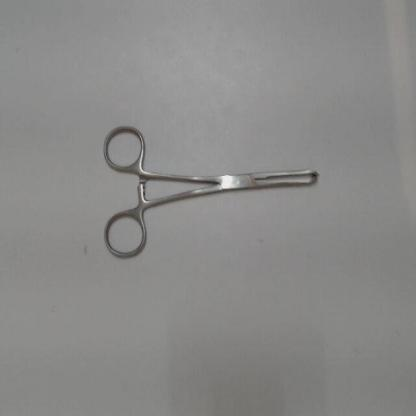Allis Tissue Forceps: (95, 114, 331, 268)
